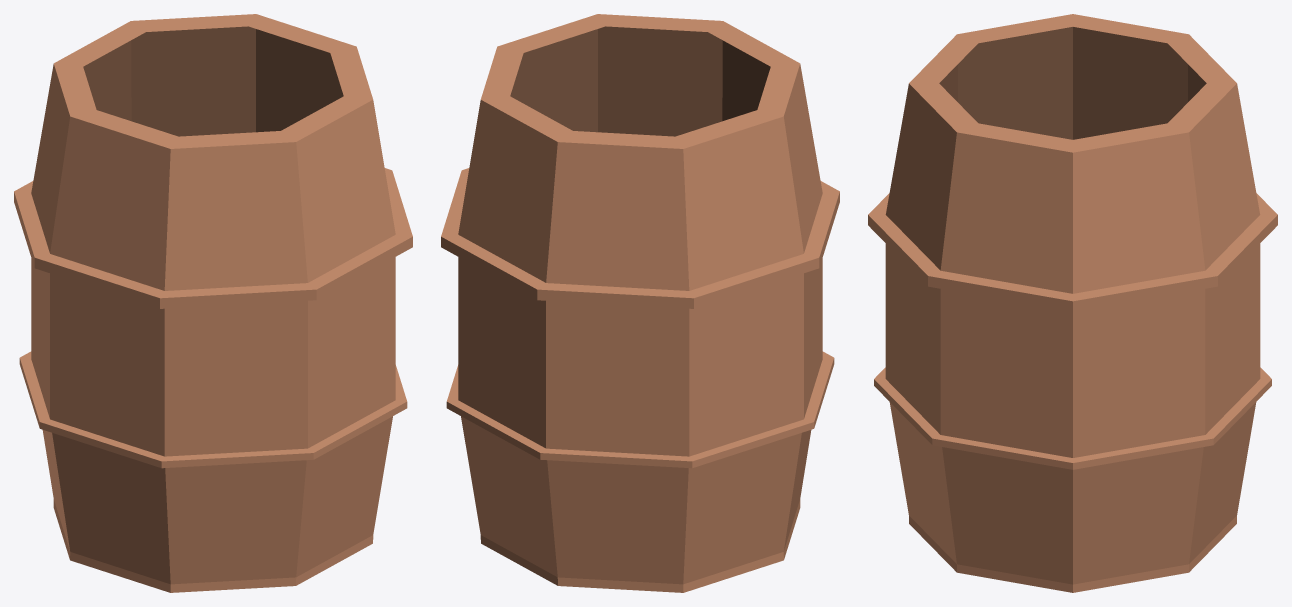
The model's file is WoodenBarel.fbx.
3 renders of one model, left to right at view 1: azimuth 30°, elevation 25°; view 2: azimuth 150°, elevation 25°; view 3: azimuth 270°, elevation 25°, orthographic.
Visible parts, largest first — view 1: Cylinder; view 2: Cylinder; view 3: Cylinder.
Part boxes in pixels (box(x1,y1,x2,y2)): Cylinder: box(14, 14, 412, 592); Cylinder: box(441, 14, 839, 592); Cylinder: box(868, 14, 1277, 592).
Bounding box in the file's own units: 250 × 296 × 250.
